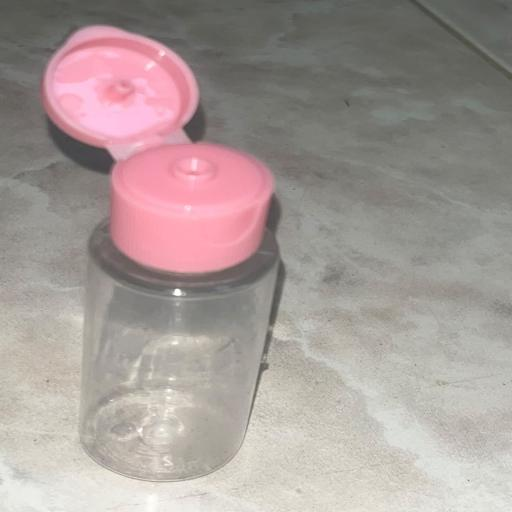PET: (16, 28, 339, 498)
